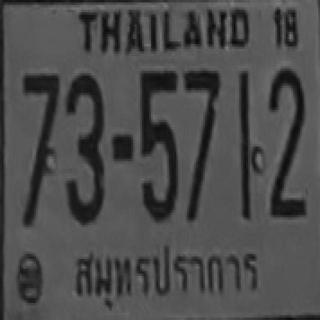N02: (268, 67, 306, 204), (268, 67, 304, 194)
N03: (64, 71, 103, 222)
N05: (138, 70, 176, 218)
N07: (183, 71, 219, 220), (22, 71, 58, 210), (183, 68, 219, 205), (183, 68, 219, 178), (183, 68, 219, 164), (22, 71, 58, 161)
P57: (66, 240, 265, 304)
